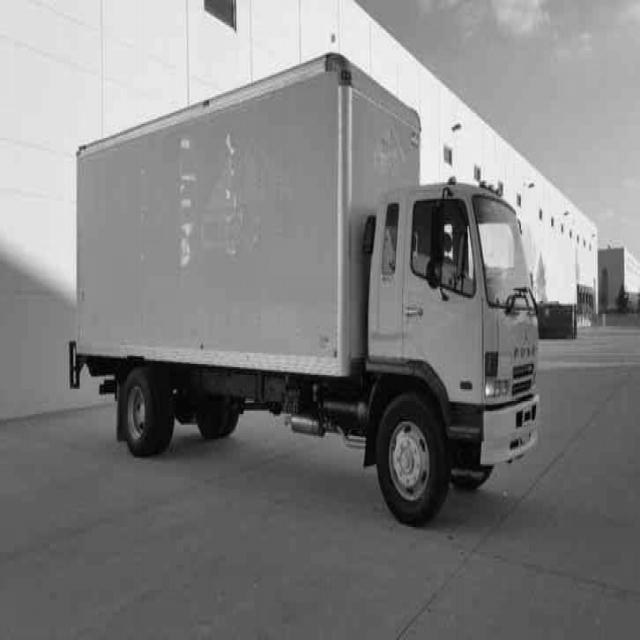truck: (341, 162, 564, 518)
